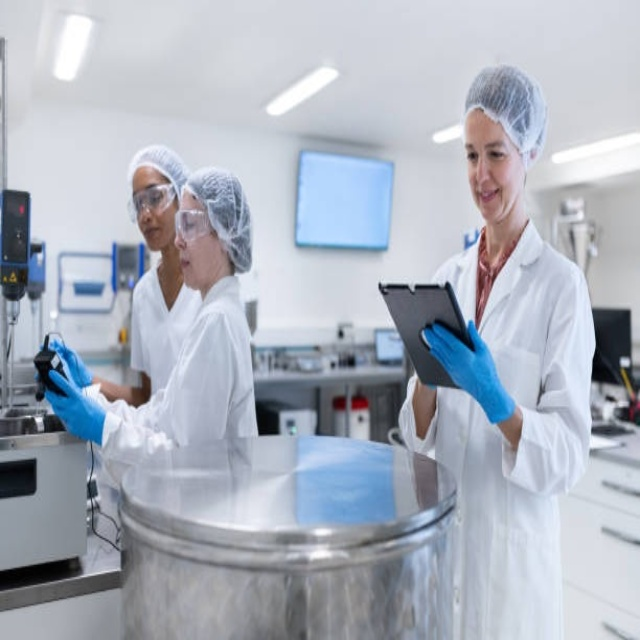Gafas: (129, 183, 176, 224), (174, 208, 212, 244)
Guantes: (422, 316, 515, 423), (43, 369, 109, 447)
Sin_gafas: (463, 133, 508, 171)
Sin_mascara: (472, 180, 502, 218), (178, 245, 204, 282), (140, 216, 164, 251)
